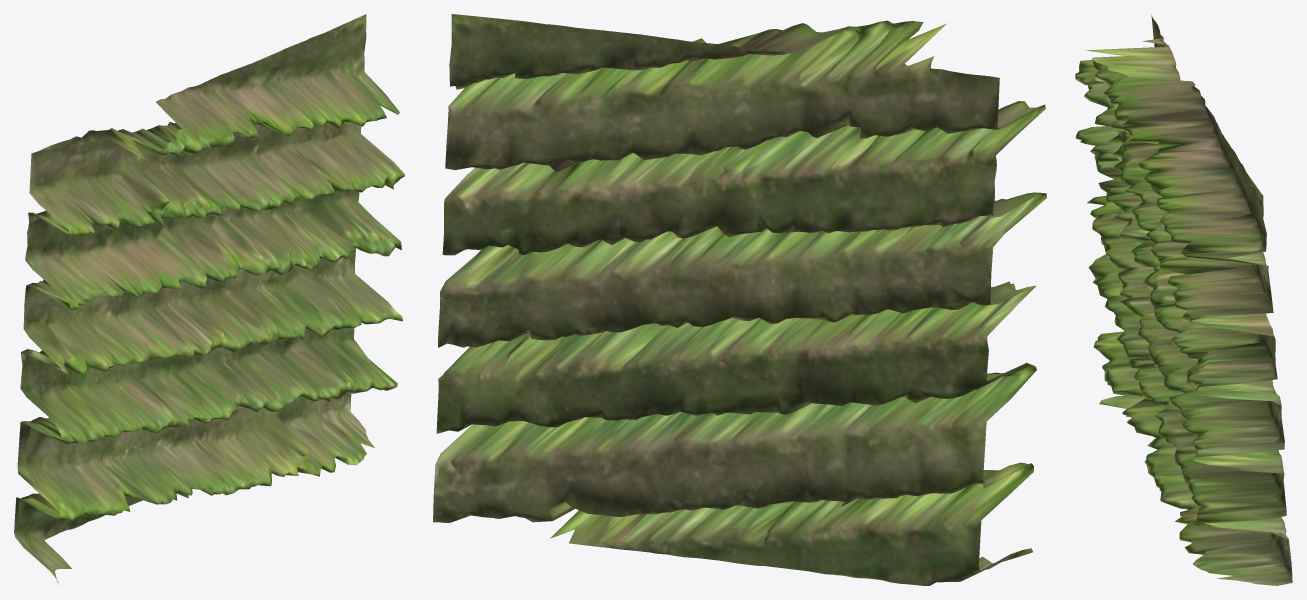
Rendered from map_140_0.obj.
The picture shows the model from 3 angles, left to right: view 1: azimuth 30°, elevation 25°; view 2: azimuth 150°, elevation 25°; view 3: azimuth 270°, elevation 25°; orthographic projection. The views are drawn at different scales.
Parts seen in each view (by area): view 1: map_140_0.obj; view 2: map_140_0.obj; view 3: map_140_0.obj.
Part boxes in pixels (x1,y1,x2,y2): map_140_0.obj: (14,14,404,584); map_140_0.obj: (433,14,1046,585); map_140_0.obj: (1075,14,1292,585).
Size of the model in its own units: 10 by 10 by 5.05.
1 material, 1 textured.
